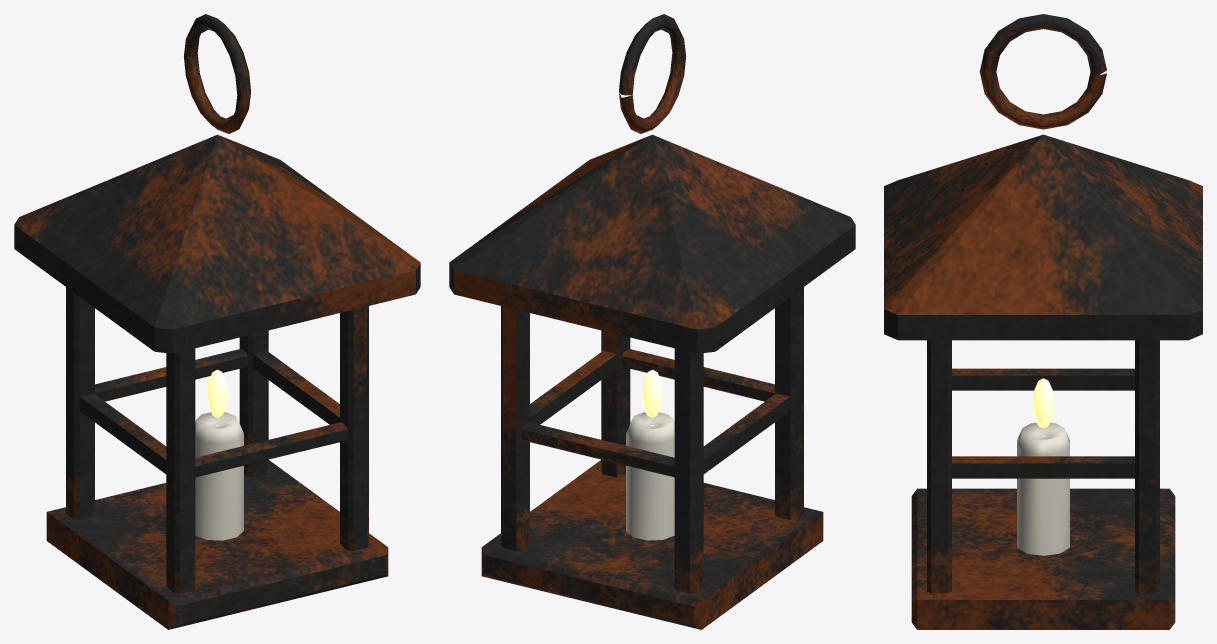
The model's file is GraveLantern.gltf.
3 renders of one model, left to right at view 1: azimuth 30°, elevation 25°; view 2: azimuth 150°, elevation 25°; view 3: azimuth 270°, elevation 25°, orthographic. The views are drawn at different scales.
Visible parts, largest first — view 1: GraveLantern; view 2: GraveLantern; view 3: GraveLantern.
Part boxes in pixels (x1,y1,x2,y2): GraveLantern: (14, 14, 420, 629); GraveLantern: (449, 14, 855, 629); GraveLantern: (884, 14, 1202, 629).
Bounding box in the file's own units: 0.23 × 0.446 × 0.23.
3 materials, 1 textured.
